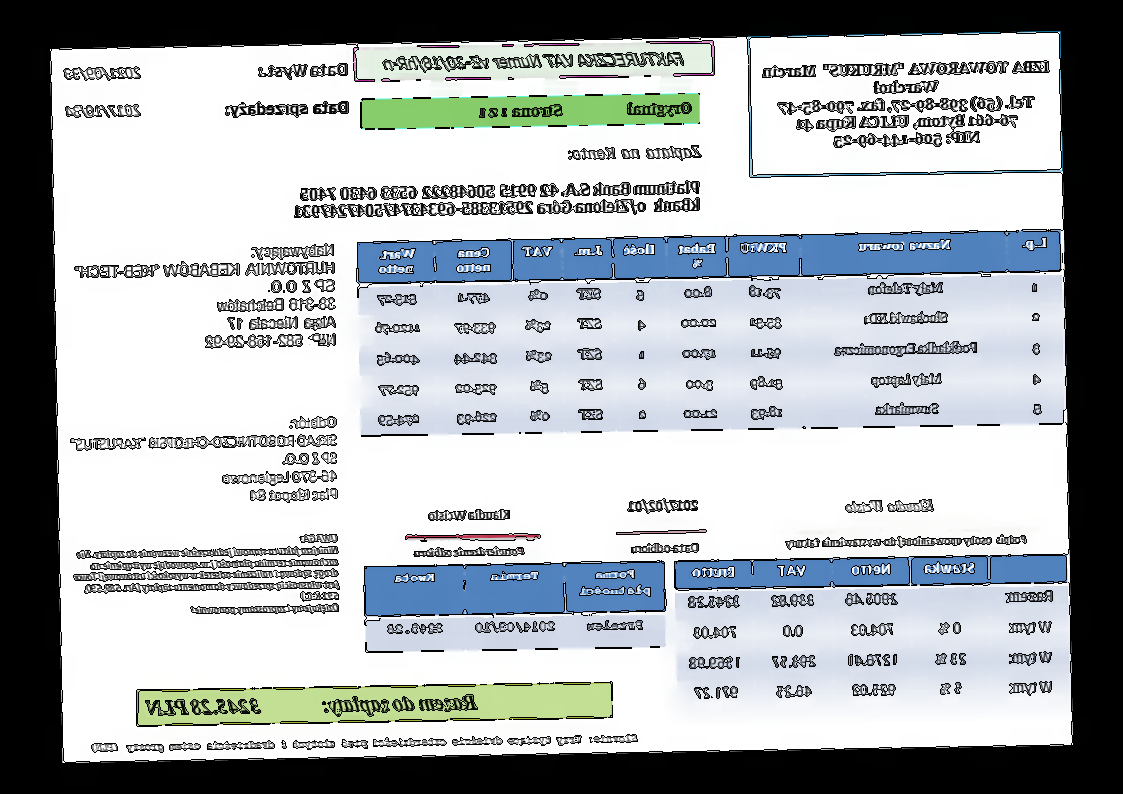Table: (356, 228, 1066, 438), (675, 553, 1071, 714), (362, 559, 668, 654)
TextBox: (71, 241, 338, 353), (761, 56, 1054, 153), (67, 414, 340, 509), (69, 530, 343, 621), (292, 178, 704, 221), (88, 731, 641, 755), (144, 691, 479, 722), (380, 48, 688, 74), (477, 97, 695, 122), (782, 532, 1028, 552), (565, 141, 704, 165), (222, 96, 353, 121), (255, 60, 349, 82), (412, 543, 527, 560), (844, 495, 938, 515), (63, 62, 144, 84), (64, 100, 144, 120), (625, 496, 702, 516), (427, 507, 514, 524), (631, 540, 702, 555)
